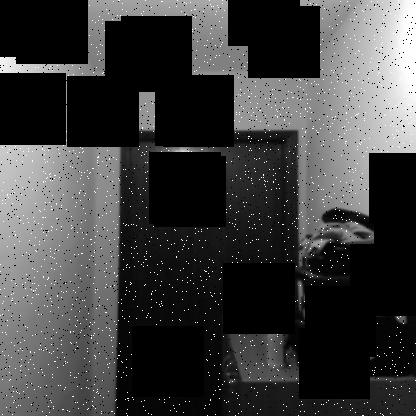Porte: (117, 128, 299, 416)
